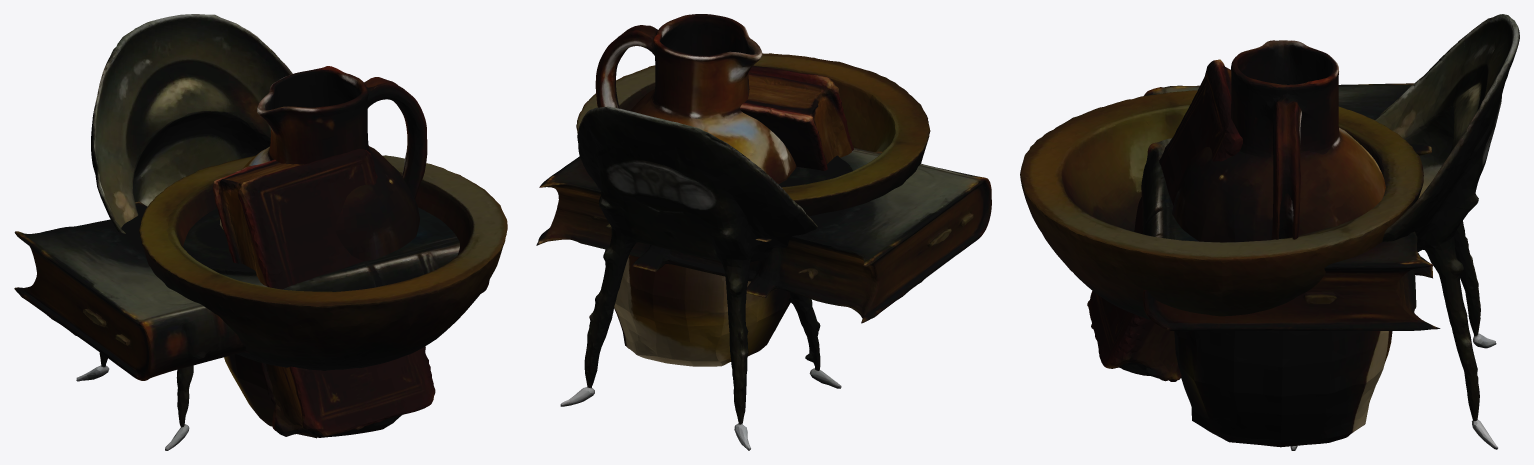
Rendered from scenegen.glb.
The picture shows the model from 3 angles, left to right: view 1: azimuth 30°, elevation 25°; view 2: azimuth 150°, elevation 25°; view 3: azimuth 270°, elevation 25°; orthographic projection. The views are drawn at different scales.
Parts seen in each view (by area): view 1: geometry_0, geometry_1, geometry_2, geometry_3, geometry_4; view 2: geometry_1, geometry_2, geometry_4, geometry_0, geometry_3; view 3: geometry_4, geometry_0, geometry_1, geometry_2, geometry_3.
Part boxes in pixels (x1,y1,x2,y2): geometry_0: [139, 155, 507, 370]; geometry_1: [76, 14, 292, 450]; geometry_2: [14, 201, 489, 380]; geometry_3: [213, 148, 435, 436]; geometry_4: [220, 66, 427, 438]; geometry_1: [560, 106, 841, 450]; geometry_2: [536, 148, 991, 323]; geometry_4: [595, 14, 796, 366]; geometry_0: [576, 53, 930, 216]; geometry_3: [740, 65, 853, 170]; geometry_4: [1172, 40, 1392, 447]; geometry_0: [1020, 90, 1423, 319]; geometry_1: [1290, 14, 1519, 450]; geometry_2: [1141, 83, 1440, 331]; geometry_3: [1087, 59, 1242, 381].
Size of the model in its own units: 1.85 by 1.58 by 1.96.
Materials: 5 (5 with a texture image).
